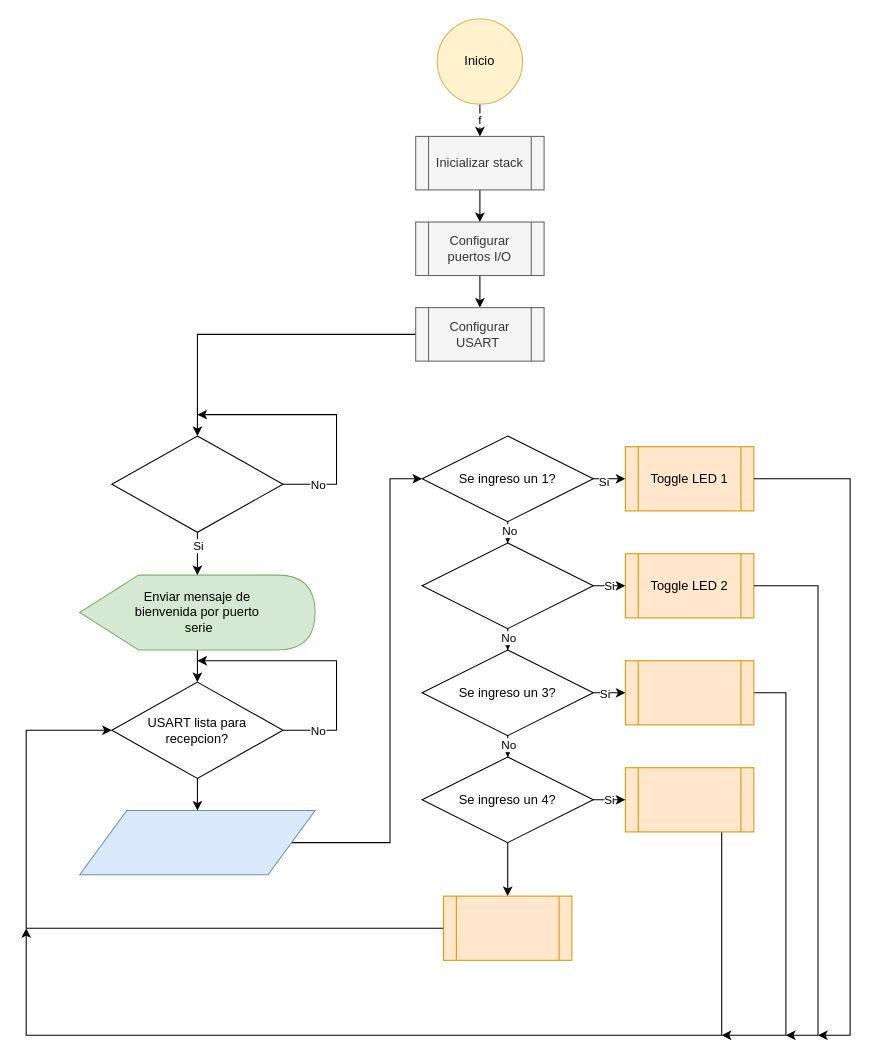
This 877x1063 diagram has some shape labels left out. The shapes that lost their labels are listed below. From the top down, each one's box as (x1, y1, x2, y2) in pixels, then its label:
(111, 435, 283, 532): USART lista para transmision?
(421, 542, 593, 629): Se ingreso un 2?
(624, 660, 754, 725): Toggle LED 3
(624, 767, 754, 832): Toggle LED 4
(79, 809, 315, 875): Leer datos recibidos por puerto serie
(442, 895, 572, 960): Mostrar error devolviendo el caracter ingresado
